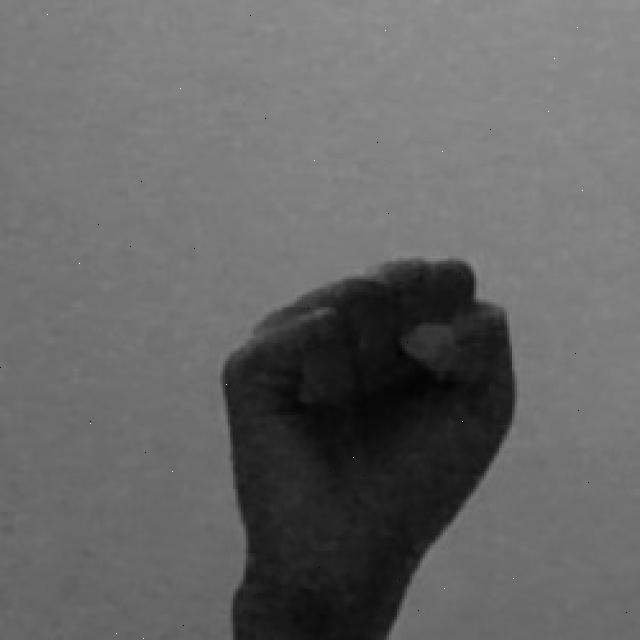S: (212, 253, 520, 640)
